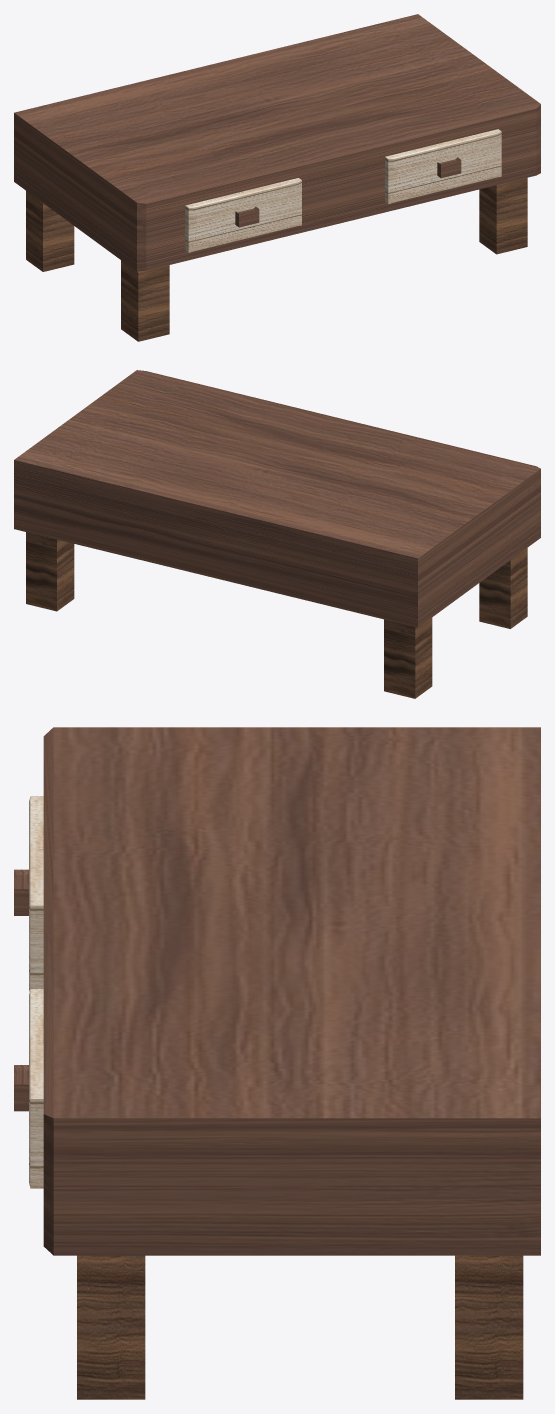
Rendered from Mueble.obj.
3 renders of one model, top to bottom at view 1: azimuth 30°, elevation 25°; view 2: azimuth 150°, elevation 25°; view 3: azimuth 270°, elevation 25°, orthographic. The views are drawn at different scales.
Parts seen in each view (by area): view 1: pCube2, pasted__pasted__pCube2 pasted__group2 group3, pasted__pCube2 group2, pCube1, pasted__pCube1 group, pasted__pCube1 group1, pasted__pCube3 group4, pasted__pCube3 group5; view 2: pCube2, pasted__pCube1 group1, group1 pasted__pasted__pCube1 pasted__group, pCube1; view 3: pCube2, pasted__pCube1 group, group1 pasted__pasted__pCube1 pasted__group, pasted__pasted__pCube2 pasted__group2 group3, pasted__pCube2 group2.
Boxes of the visible parts, x1,y1,x2,y2 form: pCube2: (14, 14, 540, 271); pasted__pasted__pCube2 pasted__group2 group3: (385, 129, 501, 204); pasted__pCube2 group2: (185, 178, 301, 252); pCube1: (121, 260, 169, 341); pasted__pCube1 group: (479, 177, 527, 254); pasted__pCube1 group1: (26, 191, 74, 271); pasted__pCube3 group4: (437, 157, 461, 178); pasted__pCube3 group5: (235, 206, 259, 227); pCube2: (14, 370, 540, 627); pasted__pCube1 group1: (384, 617, 432, 698); group1 pasted__pasted__pCube1 pasted__group: (26, 532, 74, 611); pCube1: (479, 548, 527, 628); pCube2: (43, 727, 540, 1255); pasted__pCube1 group: (77, 1255, 145, 1399); group1 pasted__pasted__pCube1 pasted__group: (455, 1255, 523, 1399); pasted__pasted__pCube2 pasted__group2 group3: (29, 989, 43, 1188); pasted__pCube2 group2: (29, 796, 43, 991).
Bounding box in the file's own units: 2.05 × 0.7059 × 1.17.
6 materials, 6 textured.
